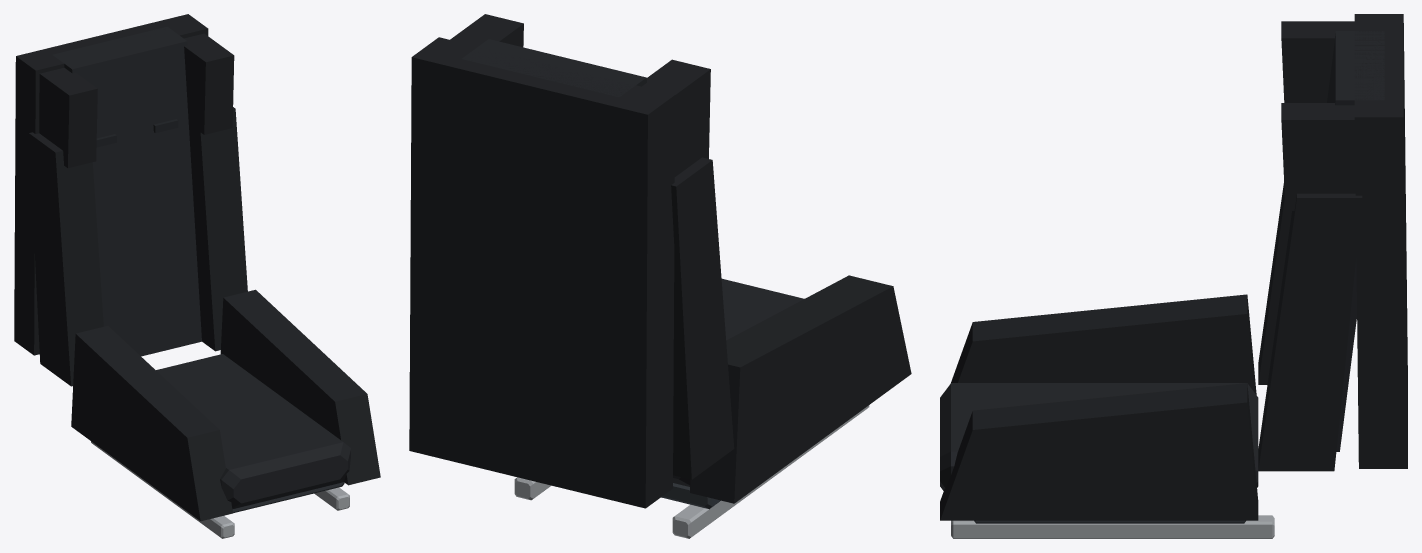
File: hana_roadster.glb
3 renders of one model, left to right at view 1: azimuth 30°, elevation 25°; view 2: azimuth 150°, elevation 25°; view 3: azimuth 270°, elevation 25°, orthographic. The views are drawn at different scales.
Parts seen in each view (by area): view 1: model; view 2: model; view 3: model.
Boxes of the visible parts, x1,y1,x2,y2 form: model: (14, 14, 380, 538); model: (409, 14, 911, 538); model: (940, 14, 1407, 538).
Size of the model in its own units: 0.47 by 0.8836 by 0.86.
Materials: 4 (1 with a texture image).
